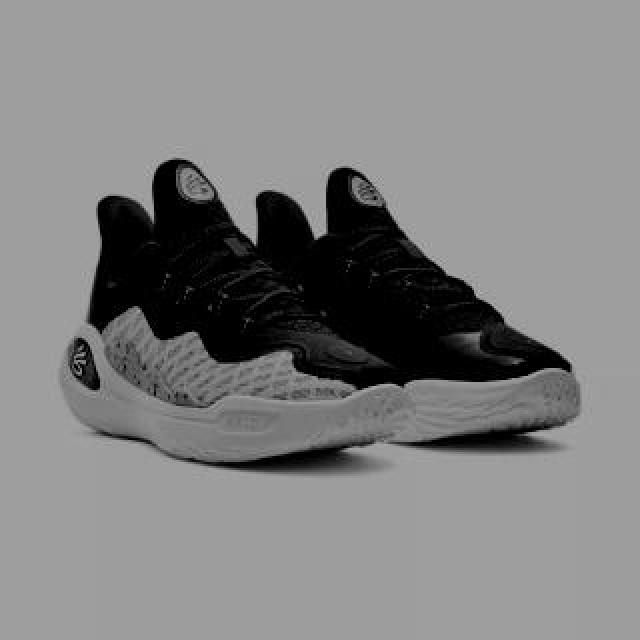shoe: (60, 156, 404, 462), (222, 166, 582, 442)
